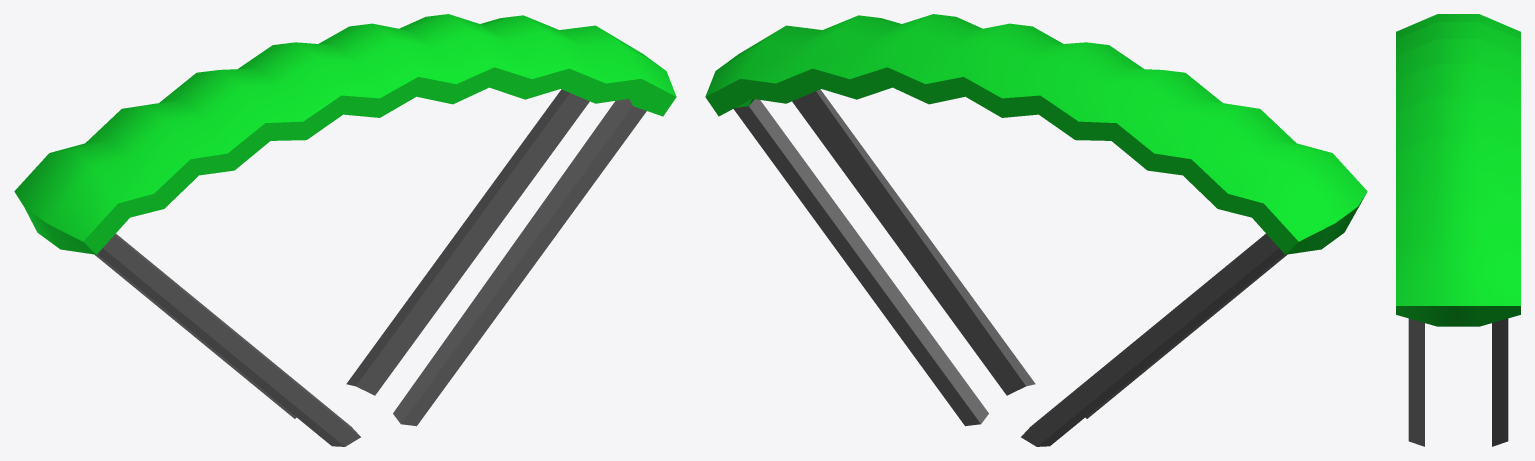
File: paracaidasT.FBX
The picture shows the model from 3 angles, left to right: view 1: azimuth 30°, elevation 25°; view 2: azimuth 150°, elevation 25°; view 3: azimuth 270°, elevation 25°; orthographic projection. The views are drawn at different scales.
Visible parts, largest first — view 1: Paracaídas, Cordones; view 2: Paracaídas, Cordones; view 3: Paracaídas, Cordones.
Boxes of the visible parts, left/top/right/bottom form: Paracaídas: left=14, top=14, right=676, bottom=254; Cordones: left=95, top=89, right=646, bottom=446; Paracaídas: left=705, top=14, right=1367, bottom=254; Cordones: left=733, top=89, right=1286, bottom=446; Paracaídas: left=1396, top=14, right=1520, bottom=326; Cordones: left=1408, top=318, right=1508, bottom=446.
Size of the model in its own units: 119 by 70.68 by 23.
